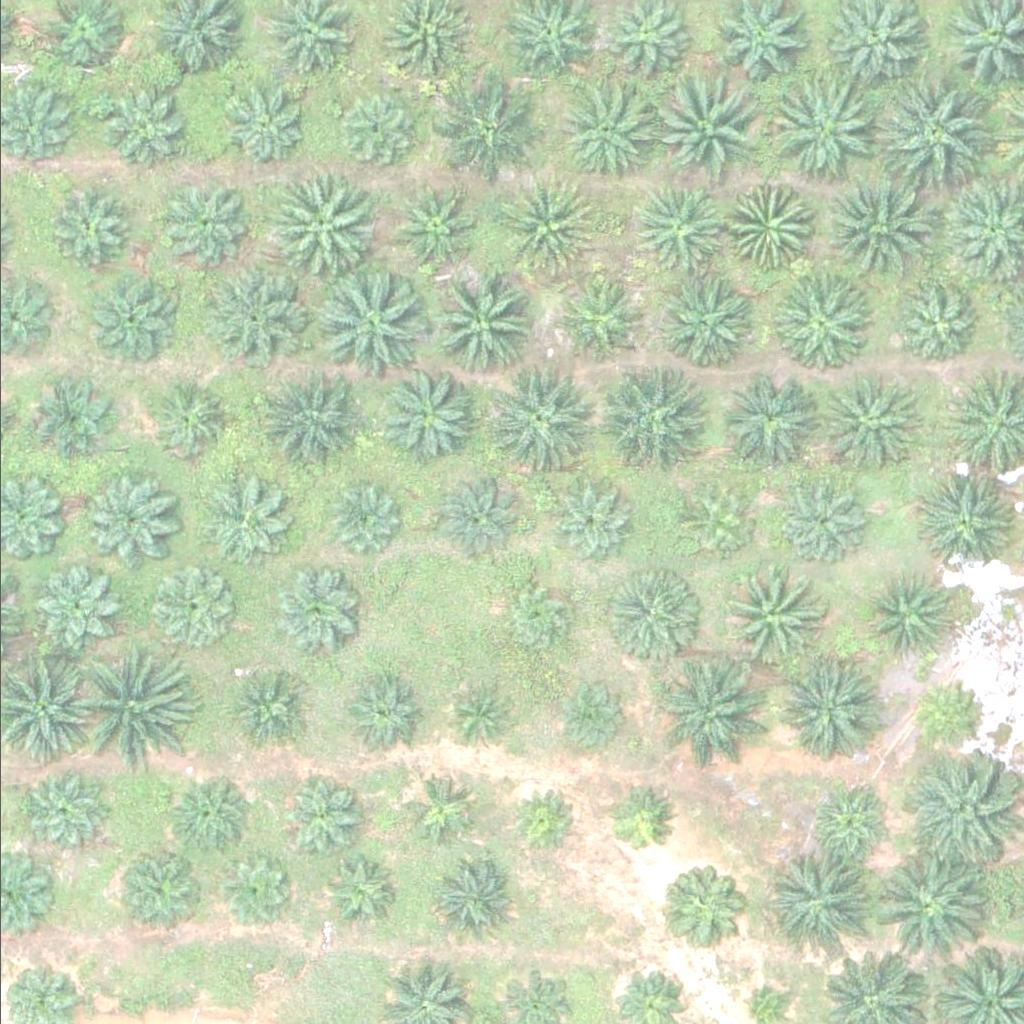Kelapa_Sawit: (70, 652, 183, 765), (245, 357, 358, 470), (308, 266, 421, 379), (436, 77, 549, 190), (761, 77, 874, 190), (877, 76, 990, 189), (903, 755, 1016, 868), (422, 272, 536, 384), (872, 847, 986, 959), (264, 166, 377, 278), (547, 76, 660, 188), (657, 71, 770, 183), (825, 169, 938, 281), (594, 358, 707, 470), (480, 359, 593, 471), (654, 660, 767, 772), (763, 852, 876, 964), (370, 366, 471, 466), (203, 263, 304, 363), (495, 175, 596, 275), (651, 274, 752, 374), (775, 273, 876, 373), (811, 375, 912, 475), (720, 373, 821, 473), (913, 466, 1014, 566), (720, 565, 821, 665), (781, 662, 882, 762), (602, 566, 702, 666), (278, 772, 367, 860), (335, 670, 423, 758), (219, 658, 307, 746), (112, 842, 200, 930), (76, 474, 164, 562), (330, 88, 418, 176), (223, 77, 311, 165), (95, 81, 183, 169), (45, 176, 133, 264), (90, 274, 178, 362), (144, 375, 232, 463), (143, 564, 231, 652), (802, 779, 890, 867), (638, 186, 726, 274), (387, 182, 475, 270), (563, 280, 651, 368), (430, 473, 518, 561), (548, 480, 636, 568), (665, 864, 753, 952), (426, 858, 514, 946), (164, 771, 252, 858), (16, 764, 104, 851), (162, 178, 250, 265), (31, 371, 119, 458), (272, 566, 360, 653), (30, 563, 118, 650), (199, 477, 287, 564), (730, 184, 818, 271), (888, 285, 976, 372), (781, 478, 869, 565), (861, 572, 949, 659), (912, 676, 988, 751), (321, 481, 397, 556), (550, 679, 626, 754), (211, 854, 287, 929), (438, 677, 514, 752), (601, 784, 676, 859), (680, 485, 755, 560), (401, 769, 476, 844), (496, 583, 571, 658), (317, 857, 392, 932), (505, 784, 580, 859)
